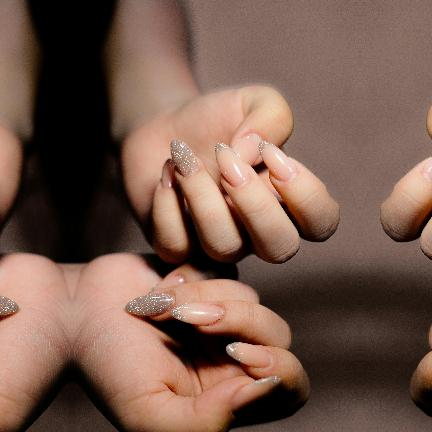Nail: (230, 376, 281, 414), (259, 141, 298, 182), (215, 143, 250, 187), (226, 342, 273, 368), (171, 303, 224, 326), (125, 293, 174, 316), (170, 140, 200, 177), (232, 133, 263, 166), (150, 275, 186, 293), (162, 159, 176, 188), (0, 295, 19, 315), (422, 157, 432, 182)
